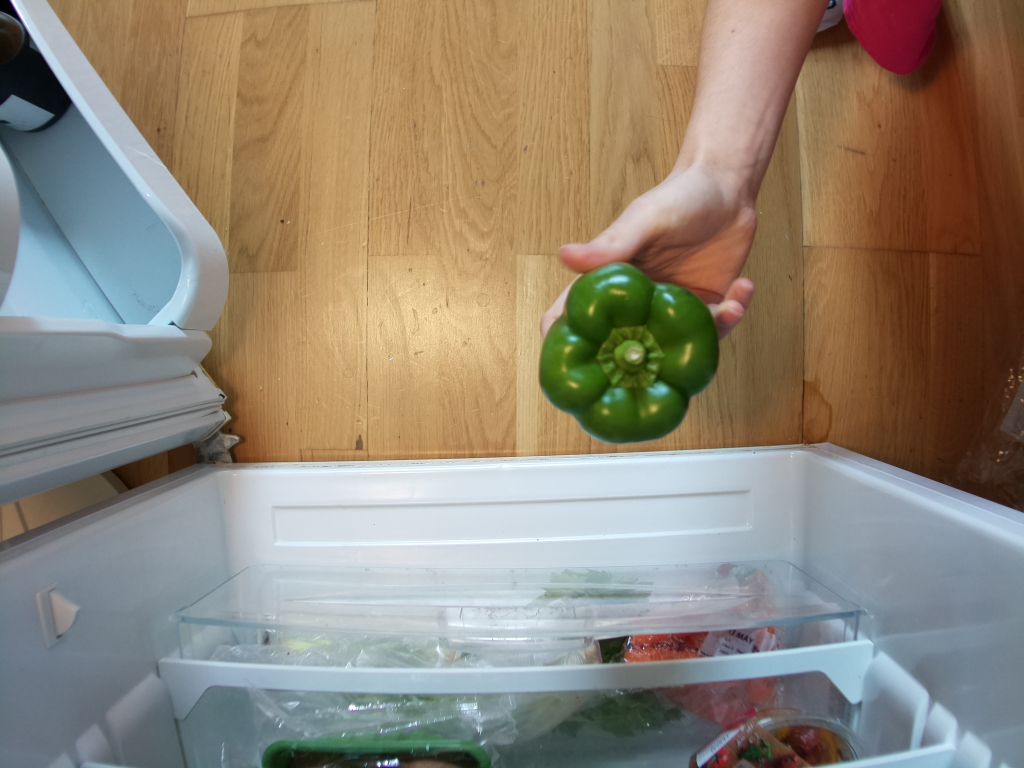pepper: (539, 258, 721, 442)
